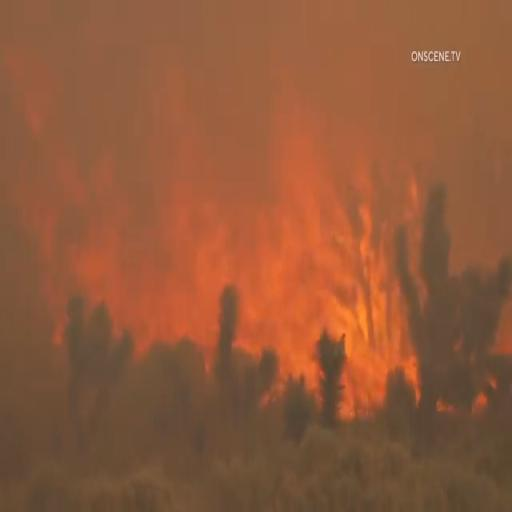fire: (74, 132, 447, 416)
